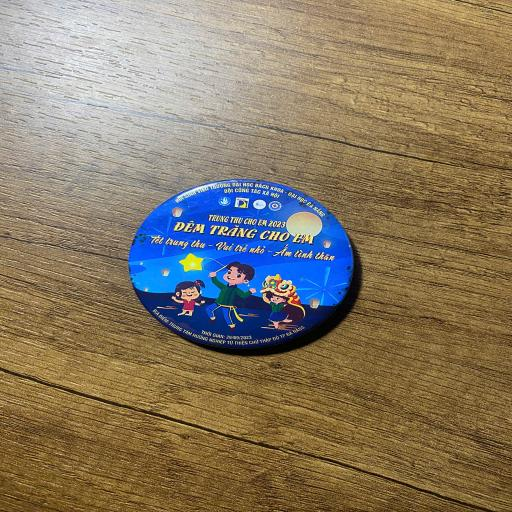HH: (127, 179, 358, 350)
